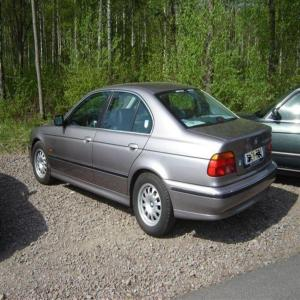Vehicle-registration-plate: (244, 148, 265, 170)
